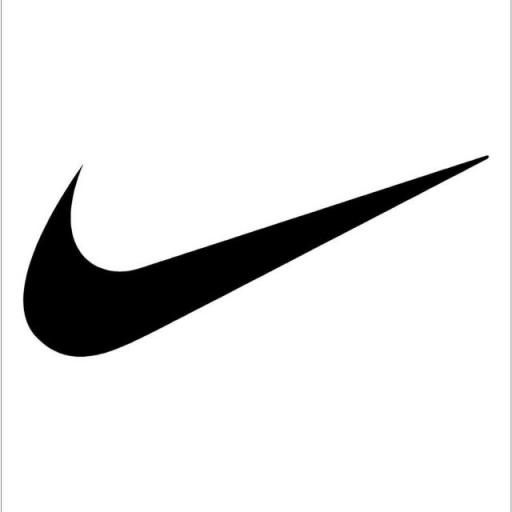Nike: (22, 152, 494, 362)
